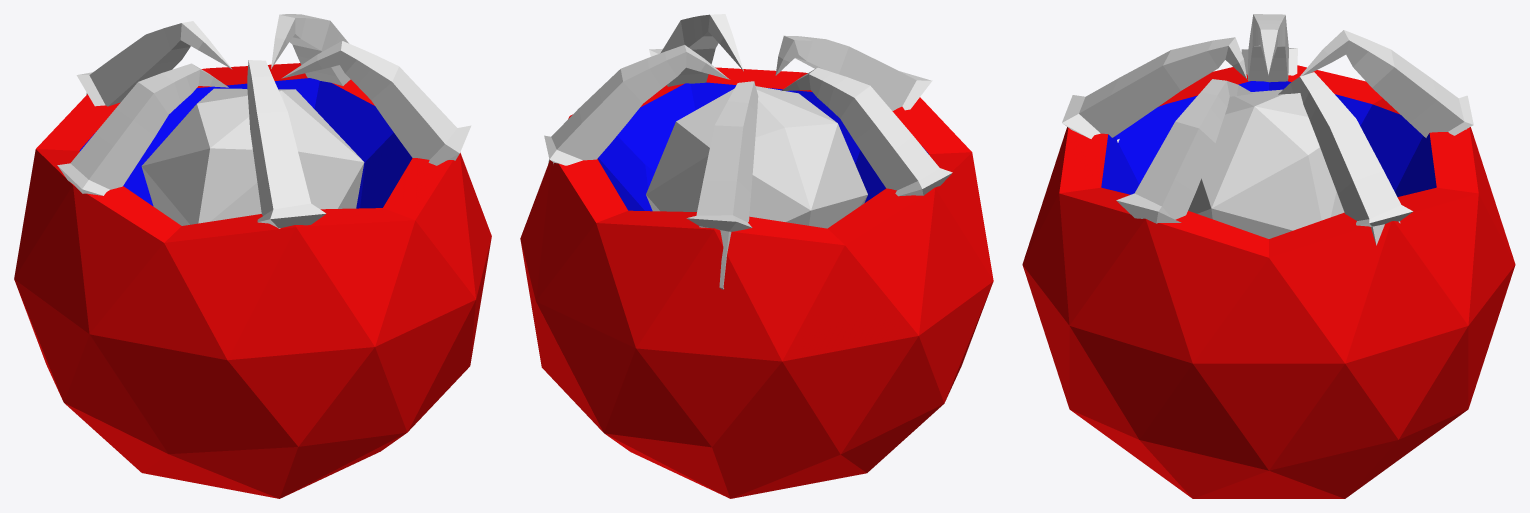
Rendered from Pit_Flower.fbx.
3 views of the same model, side by side, from view 1: azimuth 30°, elevation 25°; view 2: azimuth 150°, elevation 25°; view 3: azimuth 270°, elevation 25° (orthographic).
Parts seen in each view (by area): view 1: Pit_Flower_Body, Pit_Flower_Tentacles, Pit_Flower_Fruit; view 2: Pit_Flower_Body, Pit_Flower_Tentacles, Pit_Flower_Fruit; view 3: Pit_Flower_Body, Pit_Flower_Tentacles, Pit_Flower_Fruit.
Boxes of the visible parts, x1,y1,x2,y2 form: Pit_Flower_Body: (14,63,491,498); Pit_Flower_Tentacles: (57,14,471,228); Pit_Flower_Fruit: (141,88,364,225); Pit_Flower_Body: (520,67,993,498); Pit_Flower_Tentacles: (544,14,952,289); Pit_Flower_Fruit: (646,86,867,228); Pit_Flower_Body: (1022,65,1515,498); Pit_Flower_Tentacles: (1062,14,1473,245); Pit_Flower_Fruit: (1188,89,1344,238).
Size of the model in its own units: 190 by 198 by 200.
